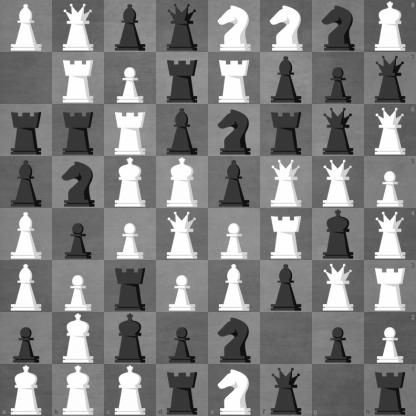B: (1, 1, 52, 52), (1, 209, 52, 260), (1, 261, 52, 312), (209, 261, 260, 312)
K: (0, 364, 52, 416), (52, 364, 104, 416), (104, 364, 156, 416), (364, 0, 416, 52), (53, 313, 104, 364), (105, 157, 156, 208), (157, 157, 208, 208)
N: (209, 364, 260, 416), (209, 1, 260, 52), (261, 1, 312, 52)
P: (364, 156, 416, 209), (364, 312, 416, 364), (53, 261, 104, 312), (105, 53, 156, 104), (105, 209, 156, 260), (157, 261, 208, 312), (209, 209, 260, 260)
Q: (364, 104, 416, 156), (364, 209, 416, 260), (53, 1, 104, 52), (157, 209, 208, 260), (261, 157, 312, 208), (313, 157, 364, 208), (313, 261, 364, 312)
R: (364, 260, 416, 312), (53, 53, 104, 104), (105, 105, 156, 156), (209, 53, 260, 104), (261, 209, 312, 260)
b: (1, 157, 52, 208), (105, 1, 156, 52), (157, 105, 208, 156), (209, 157, 260, 208), (261, 53, 312, 104), (261, 261, 312, 312)
board: (0, 0, 415, 415)
k: (105, 313, 156, 364), (313, 209, 364, 260)
n: (53, 157, 104, 208), (209, 105, 260, 156), (209, 313, 260, 364), (313, 1, 364, 52)
p: (1, 313, 52, 364), (53, 209, 104, 260), (157, 313, 208, 364), (313, 53, 364, 104), (313, 313, 364, 364)
q: (260, 364, 312, 416), (364, 52, 416, 104), (157, 1, 208, 52), (313, 105, 364, 156)
r: (156, 364, 209, 416), (364, 364, 416, 416), (1, 105, 52, 156), (53, 105, 104, 156), (105, 261, 156, 312), (157, 53, 208, 104), (261, 105, 312, 156)
